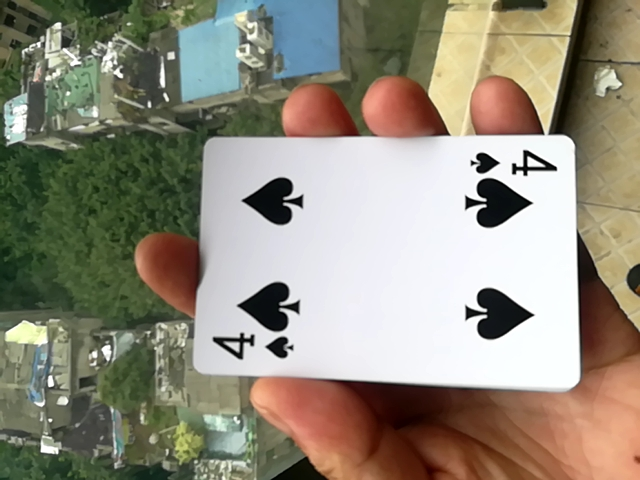ht 4: (179, 133, 574, 394)
